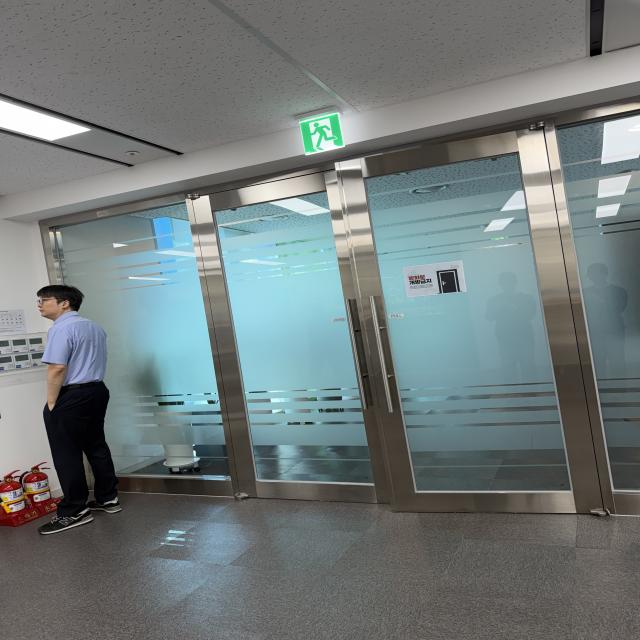front_door: (44, 99, 640, 518)
